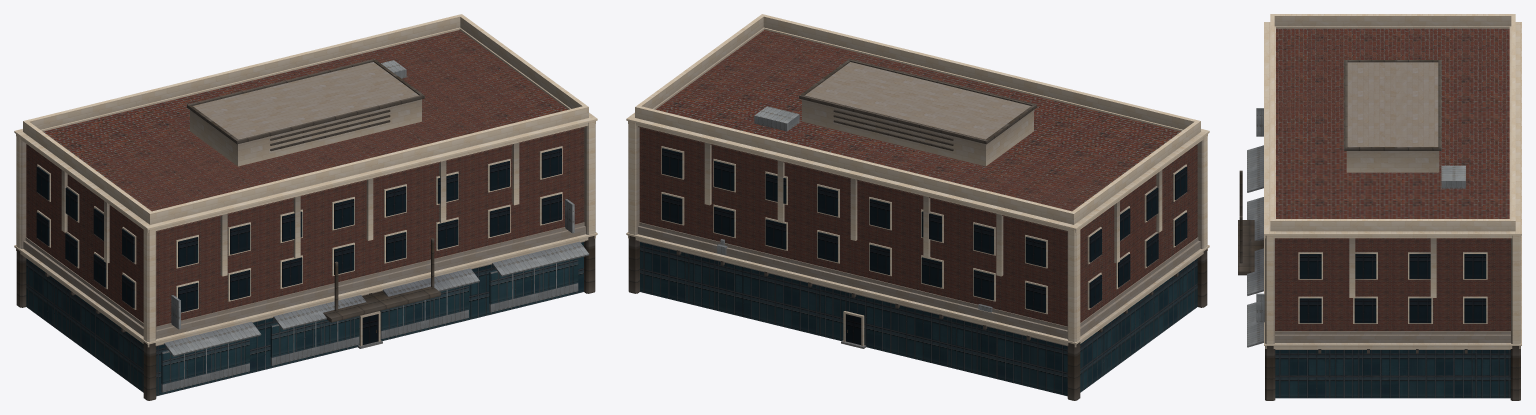
The model's file is woodward-retail-block_lod0.gltf.
3 views of the same model, side by side, from view 1: azimuth 30°, elevation 25°; view 2: azimuth 150°, elevation 25°; view 3: azimuth 270°, elevation 25° (orthographic). The views are drawn at different scales.
Parts seen in each view (by area): view 1: woodward-retail-block_upper, woodward-retail-block__v4_stone_detail, woodward-retail-block__parapet, woodward-retail-block_fen_07-glass-curtain-blue_3_t, woodward-retail-block_base, woodward-retail-block_fen_07-glass-curtain-blue_1, woodward-retail-block__v4_metal_detail, woodward-retail-block_fen_04-limestone_2, woodward-retail-block_fen_14-steel-panel_0, woodward-retail-block__awning_d, woodward-retail-block__awning_a, woodward-retail-block__awning_b (+1 smaller); view 2: woodward-retail-block_upper, woodward-retail-block__v4_stone_detail, woodward-retail-block_base, woodward-retail-block_fen_07-glass-curtain-blue_3_t, woodward-retail-block__parapet, woodward-retail-block__v4_metal_detail, woodward-retail-block_fen_04-limestone_2, woodward-retail-block__hvac; view 3: woodward-retail-block_upper, woodward-retail-block__v4_stone_detail, woodward-retail-block_base, woodward-retail-block__parapet, woodward-retail-block_fen_07-glass-curtain-blue_3_t, woodward-retail-block__v4_metal_detail, woodward-retail-block_fen_04-limestone_2, woodward-retail-block__awning_a, woodward-retail-block__hvac, woodward-retail-block__awning_c, woodward-retail-block__awning_d, woodward-retail-block__awning_b (+1 smaller).
Boxes of the visible parts, x1,y1,x2,y2 form: woodward-retail-block_upper: (26,30,584,326); woodward-retail-block__v4_stone_detail: (14,14,597,347); woodward-retail-block__parapet: (79,30,585,231); woodward-retail-block_fen_07-glass-curtain-blue_3_t: (36,148,561,344); woodward-retail-block_base: (26,242,583,396); woodward-retail-block_fen_07-glass-curtain-blue_1: (161,258,578,384); woodward-retail-block__v4_metal_detail: (16,59,595,400); woodward-retail-block_fen_04-limestone_2: (37,146,562,345); woodward-retail-block_fen_14-steel-panel_0: (161,263,578,392); woodward-retail-block__awning_d: (492,241,589,276); woodward-retail-block__awning_a: (164,321,261,356); woodward-retail-block__awning_b: (273,295,366,329); woodward-retail-block_upper: (639,30,1197,326); woodward-retail-block__v4_stone_detail: (626,14,1209,347); woodward-retail-block_base: (640,242,1197,396); woodward-retail-block_fen_07-glass-curtain-blue_3_t: (662,148,1187,344); woodward-retail-block__parapet: (638,30,1139,231); woodward-retail-block__v4_metal_detail: (628,59,1207,400); woodward-retail-block_fen_04-limestone_2: (661,146,1186,345); woodward-retail-block__hvac: (754,106,799,131); woodward-retail-block_upper: (1275,28,1510,330); woodward-retail-block__v4_stone_detail: (1264,14,1521,349); woodward-retail-block_base: (1275,350,1510,398); woodward-retail-block__parapet: (1275,28,1510,239); woodward-retail-block_fen_07-glass-curtain-blue_3_t: (1299,254,1486,323); woodward-retail-block__v4_metal_detail: (1238,60,1520,400); woodward-retail-block_fen_04-limestone_2: (1298,252,1487,323); woodward-retail-block__awning_a: (1247,145,1263,192); woodward-retail-block__hvac: (1441,165,1465,188); woodward-retail-block__awning_c: (1247,248,1263,295); woodward-retail-block__awning_d: (1247,302,1263,347); woodward-retail-block__awning_b: (1247,197,1263,240).
Size of the model in its own units: 41.15 by 17.3 by 23.28.
